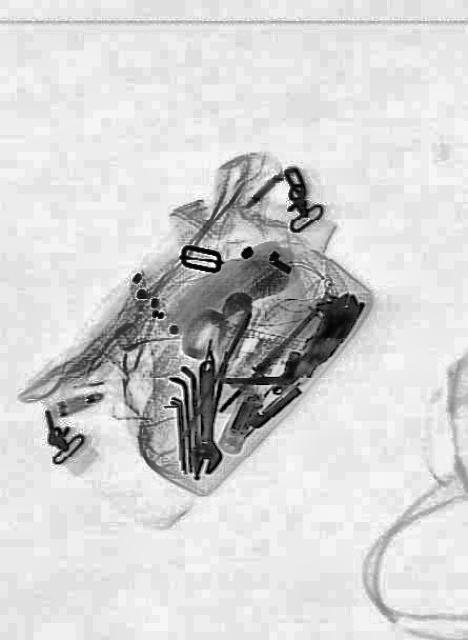Wrench: (188, 359, 222, 476)
